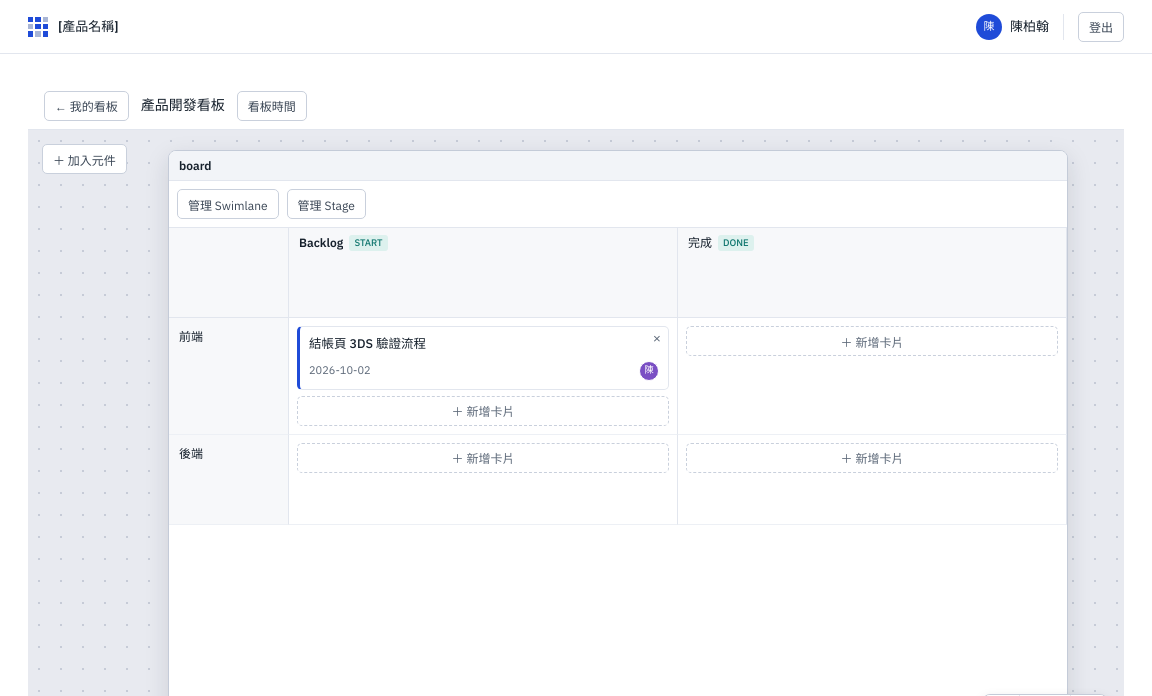
s-board › 點擊卡片開啟 s-card-detail
The image size is (1152, 696).
Step 1. Click the text "結帳頁 3DS 驗證流程" → (367, 343), box [309,335,426,351]
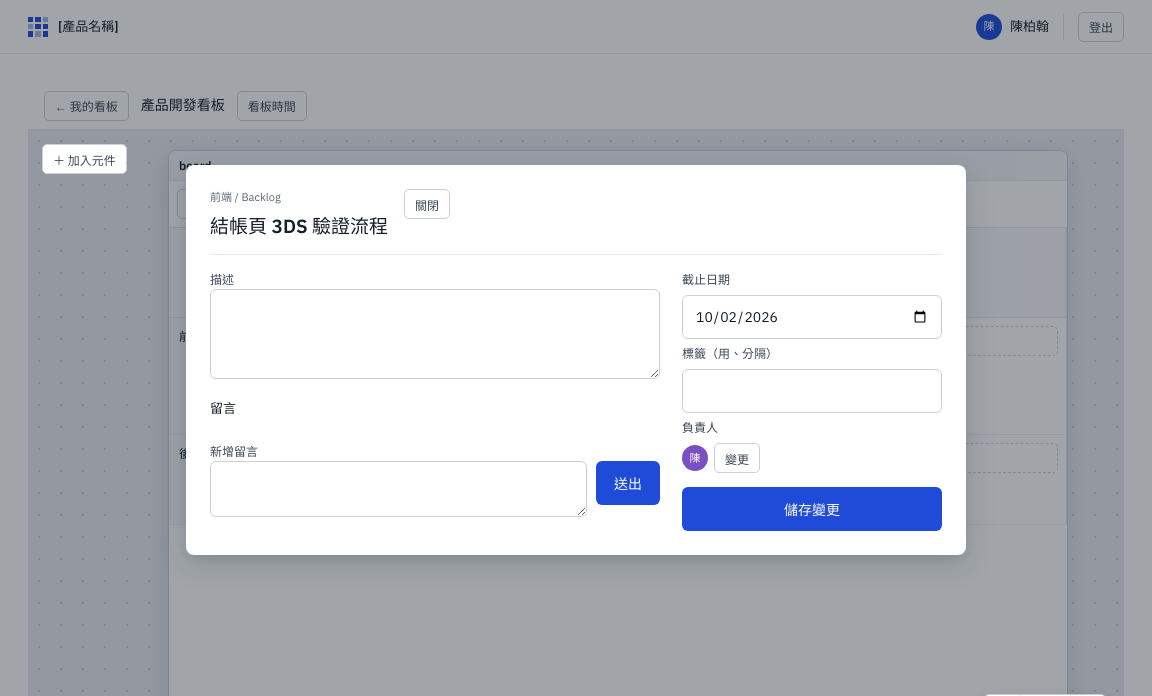
Expected: the heading "留言" is shown, [210,400,236,417]
